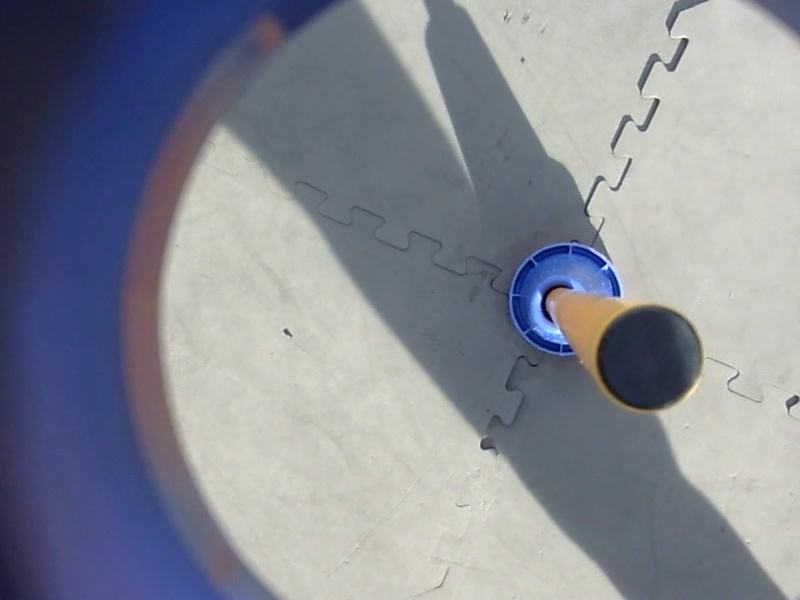tip: (587, 295, 710, 420)
